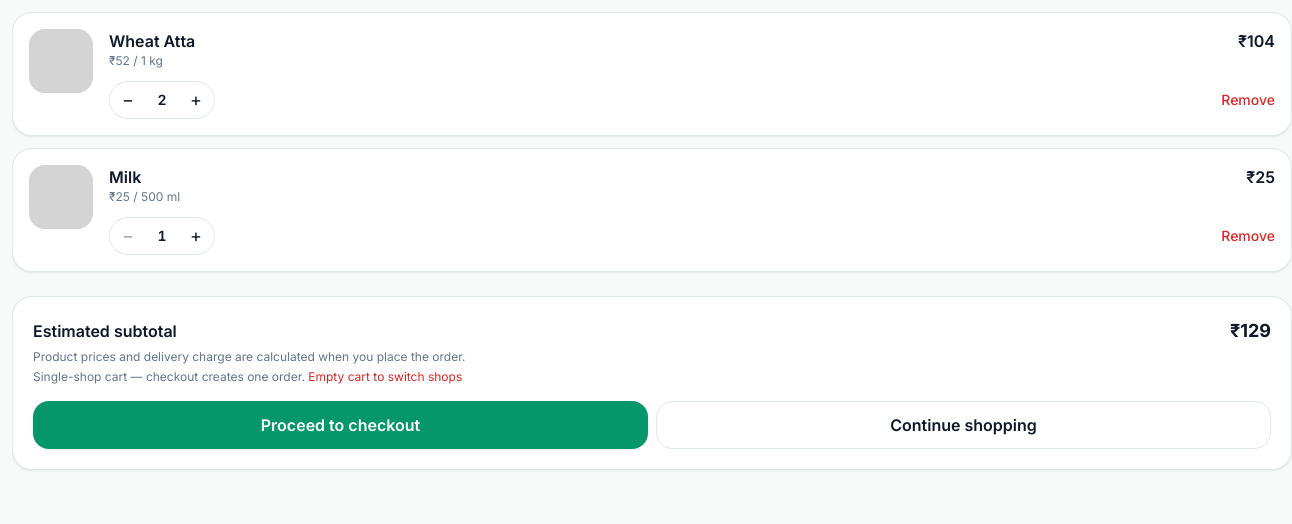
CartManager › shows a friendly message when a mutation conflicts
The image size is (1292, 524).
Click the button named "increase quantity" at (196, 100), box x1=178 y1=82 x2=214 y2=118
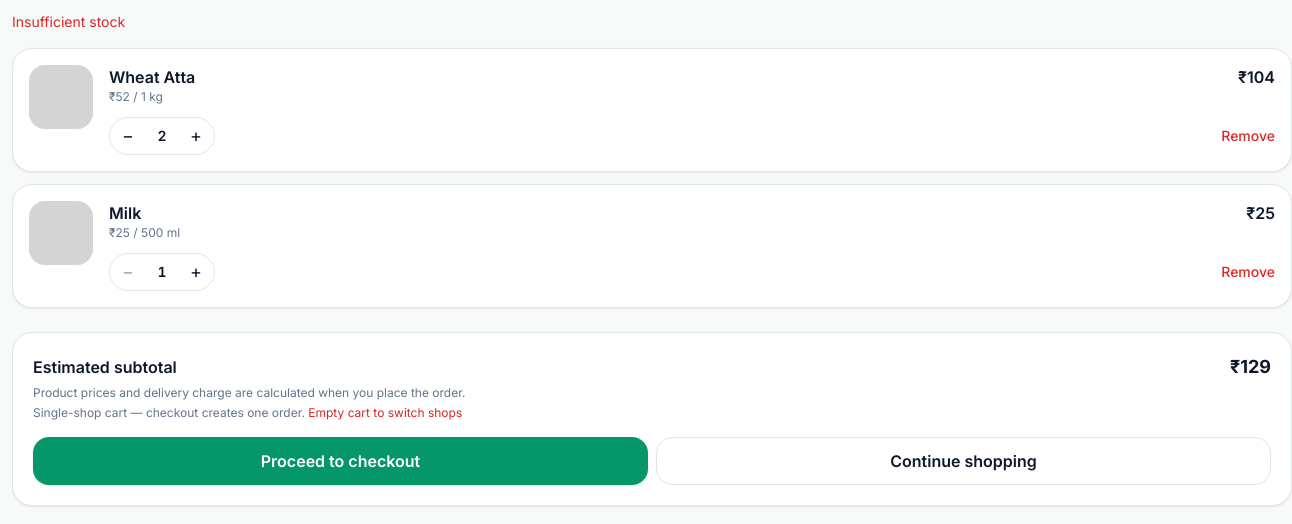
Result: the message reads "Insufficient stock" at x1=12 y1=13 x2=125 y2=30
